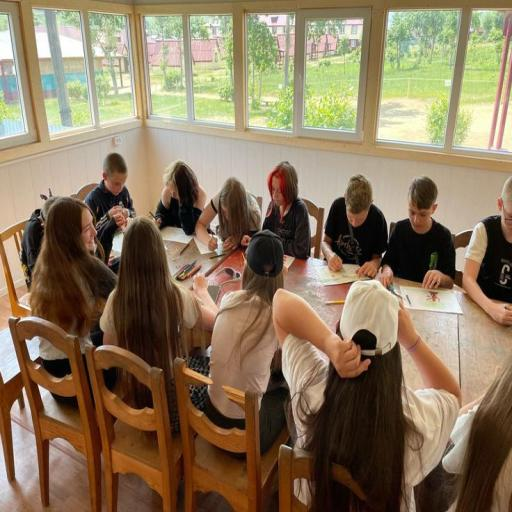bottle: (5, 312, 140, 512), (171, 354, 294, 512)
crosswalk: (268, 274, 465, 512), (96, 216, 222, 442)
phone: (87, 208, 512, 512)
